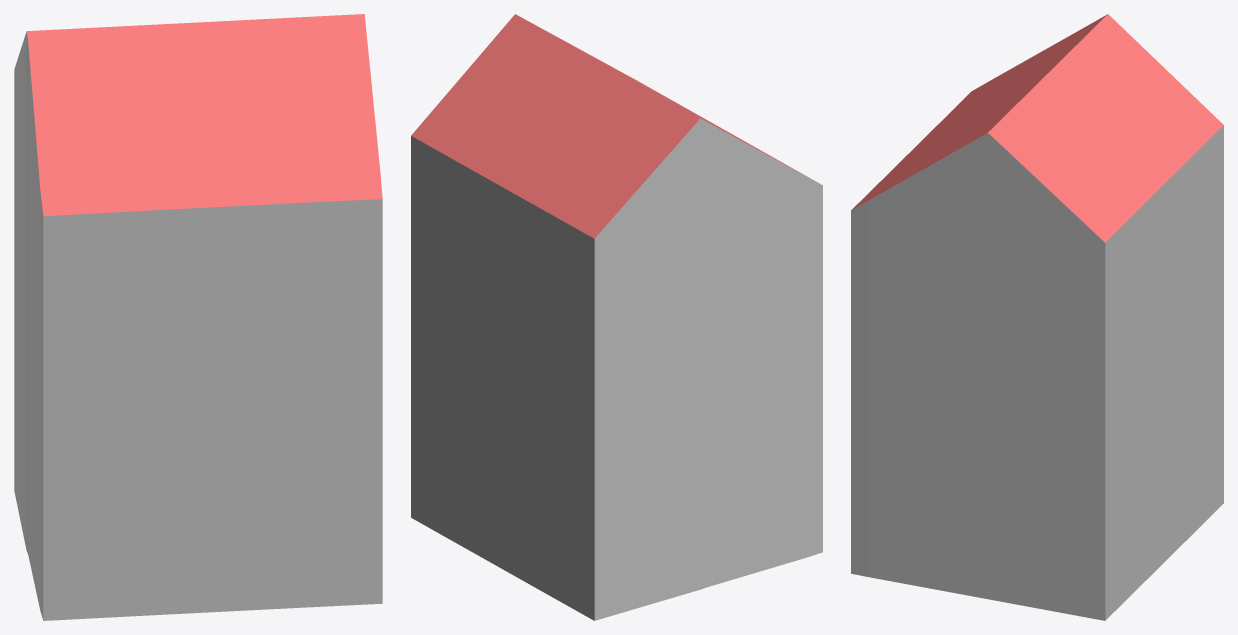
Rendered from DEBY_LOD2_4907155.gltf.
The picture shows the model from 3 angles, left to right: view 1: azimuth 30°, elevation 25°; view 2: azimuth 150°, elevation 25°; view 3: azimuth 270°, elevation 25°; orthographic projection. The views are drawn at different scales.
Visible parts, largest first — view 1: Z_UP; view 2: Z_UP; view 3: Z_UP.
Boxes of the visible parts, bbox=[...] form: Z_UP: bbox=[14, 14, 382, 620]; Z_UP: bbox=[411, 14, 822, 620]; Z_UP: bbox=[851, 14, 1223, 620].
Bounding box in the file's own units: 16.98 × 22.2 × 16.08.
